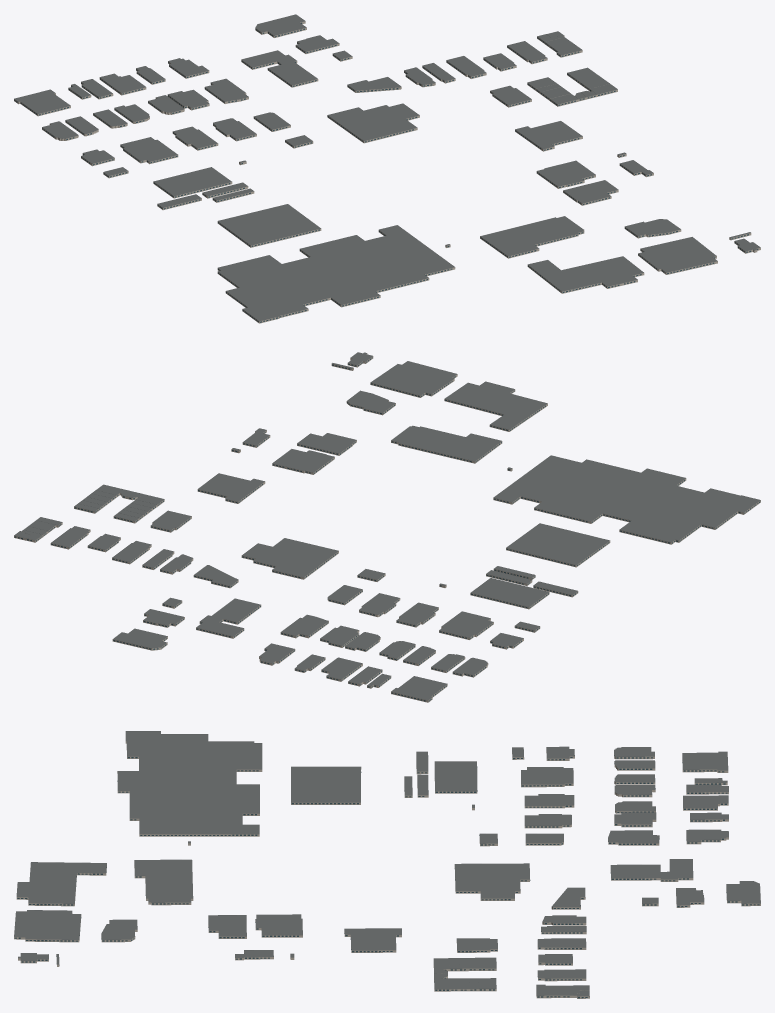
3 views of the same model, one above another, from view 1: azimuth 30°, elevation 25°; view 2: azimuth 150°, elevation 25°; view 3: azimuth 270°, elevation 25° (orthographic). The views are drawn at different scales.
Visible parts, largest first — view 1: Buildings (-2, -3) Roof membrane, Buildings (-2, -3) Masonry brick, Buildings (-2, -3) Architectural tinted glass, Buildings (-2, -3) Metal coping; view 2: Buildings (-2, -3) Roof membrane, Buildings (-2, -3) Masonry brick, Buildings (-2, -3) Architectural tinted glass, Buildings (-2, -3) Metal coping; view 3: Buildings (-2, -3) Roof membrane, Buildings (-2, -3) Masonry brick, Buildings (-2, -3) Architectural tinted glass, Buildings (-2, -3) Metal coping.
Boxes of the visible parts, x1=… form: Buildings (-2, -3) Roof membrane: x1=14, y1=14, x2=760, y2=321; Buildings (-2, -3) Masonry brick: x1=14, y1=21, x2=760, y2=323; Buildings (-2, -3) Architectural tinted glass: x1=14, y1=22, x2=758, y2=322; Buildings (-2, -3) Metal coping: x1=14, y1=15, x2=754, y2=320; Buildings (-2, -3) Roof membrane: x1=14, y1=352, x2=760, y2=700; Buildings (-2, -3) Masonry brick: x1=14, y1=353, x2=760, y2=702; Buildings (-2, -3) Architectural tinted glass: x1=14, y1=357, x2=760, y2=701; Buildings (-2, -3) Metal coping: x1=19, y1=352, x2=755, y2=698; Buildings (-2, -3) Roof membrane: x1=14, y1=731, x2=760, y2=996; Buildings (-2, -3) Masonry brick: x1=14, y1=741, x2=760, y2=998; Buildings (-2, -3) Architectural tinted glass: x1=14, y1=755, x2=759, y2=998; Buildings (-2, -3) Metal coping: x1=19, y1=731, x2=746, y2=996.
Size of the model in its own units: 819 by 5.97 by 974.
